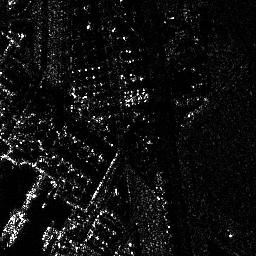ship: (7, 216, 28, 249)
